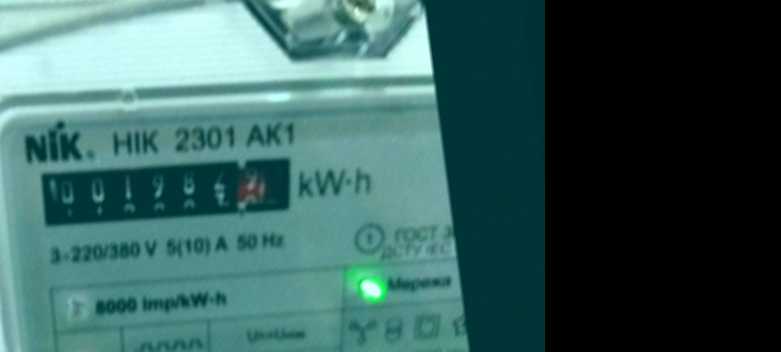0: (87, 171, 108, 202), (57, 172, 76, 203)
1: (119, 168, 134, 198)
2: (208, 159, 230, 190)
8: (179, 164, 198, 193)
9: (240, 160, 263, 191), (148, 167, 166, 197)
screen: (21, 123, 312, 254)
